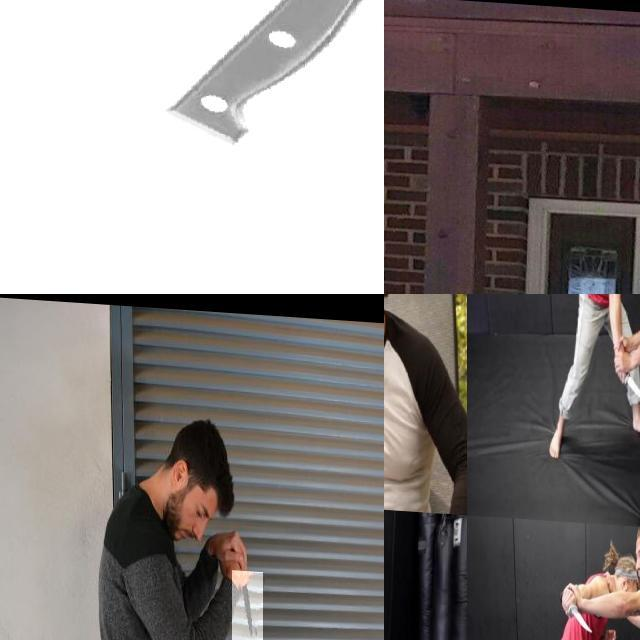-: (0, 0, 384, 294), (232, 566, 263, 638), (384, 333, 407, 427), (557, 582, 594, 630), (614, 358, 640, 394), (384, 565, 402, 613)
